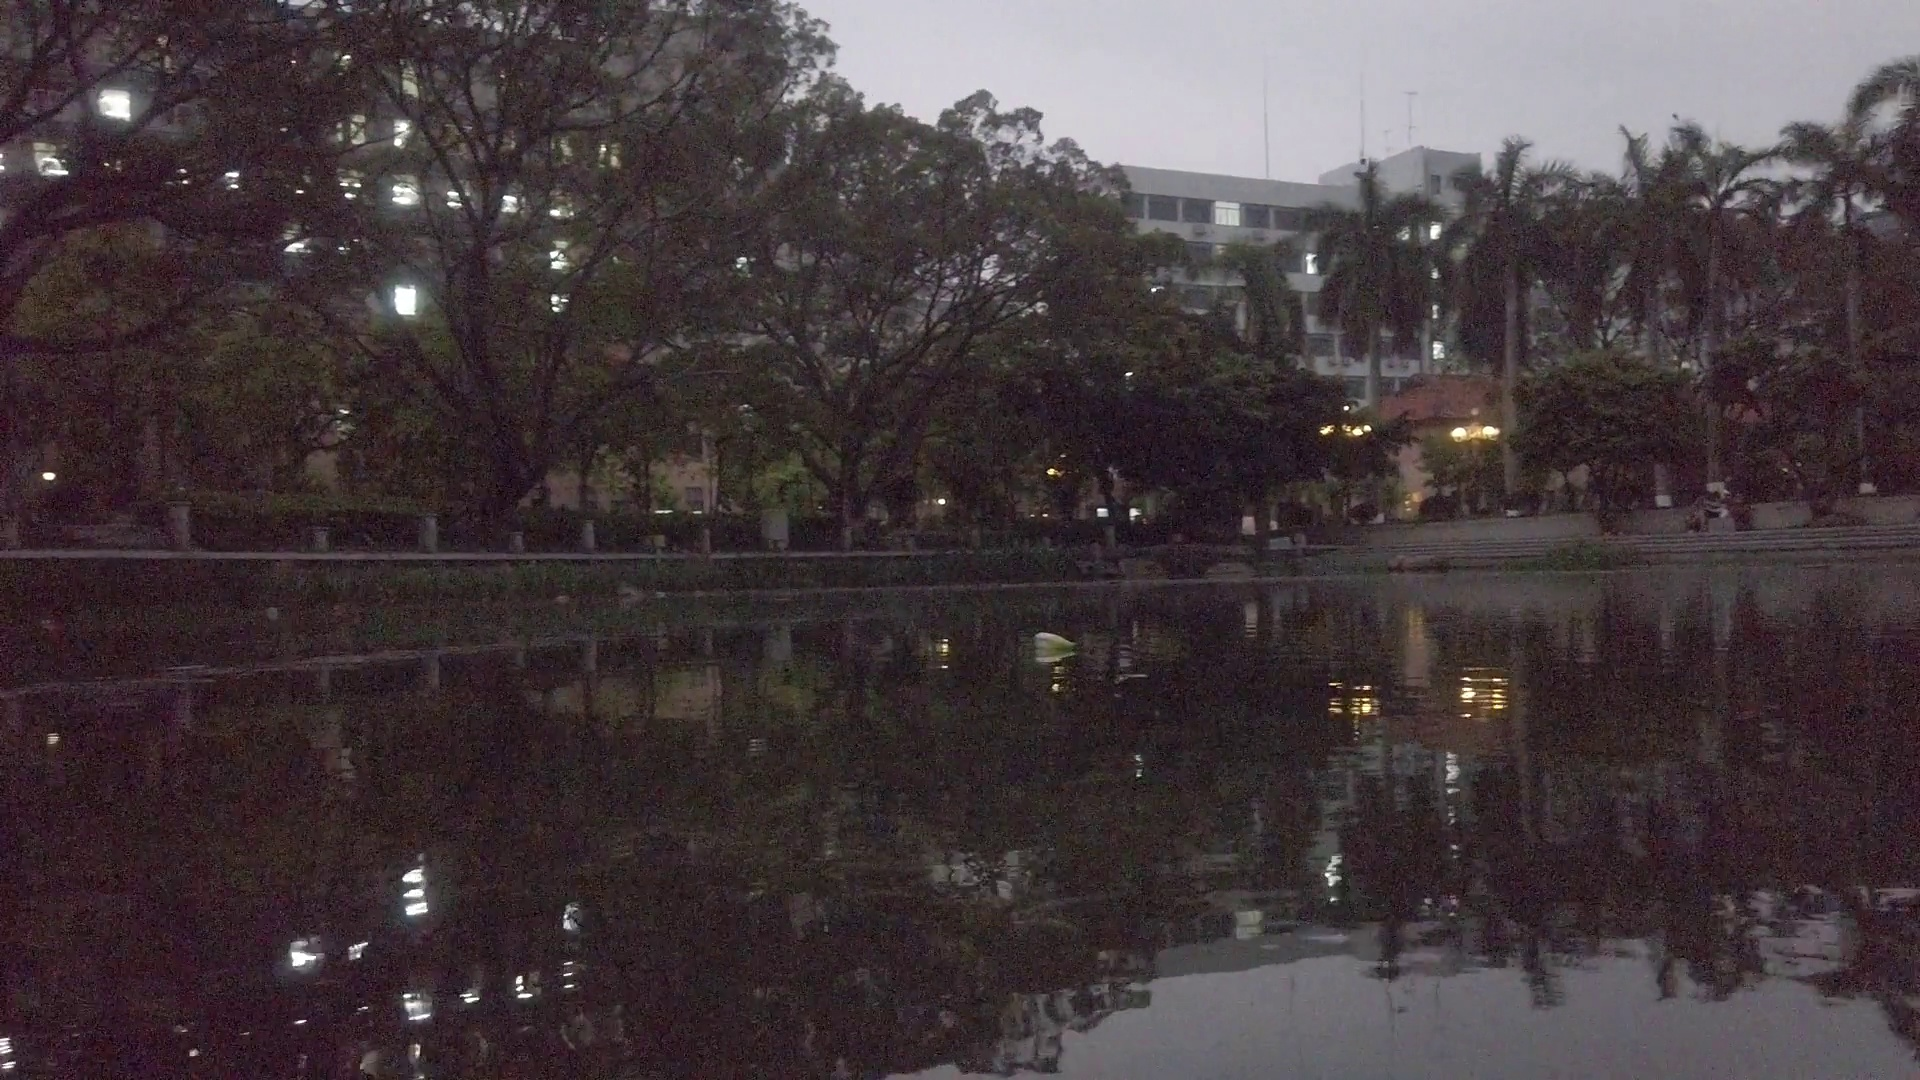bottle: (1033, 629, 1079, 651), (41, 615, 65, 633), (551, 593, 578, 608), (258, 607, 281, 620)
